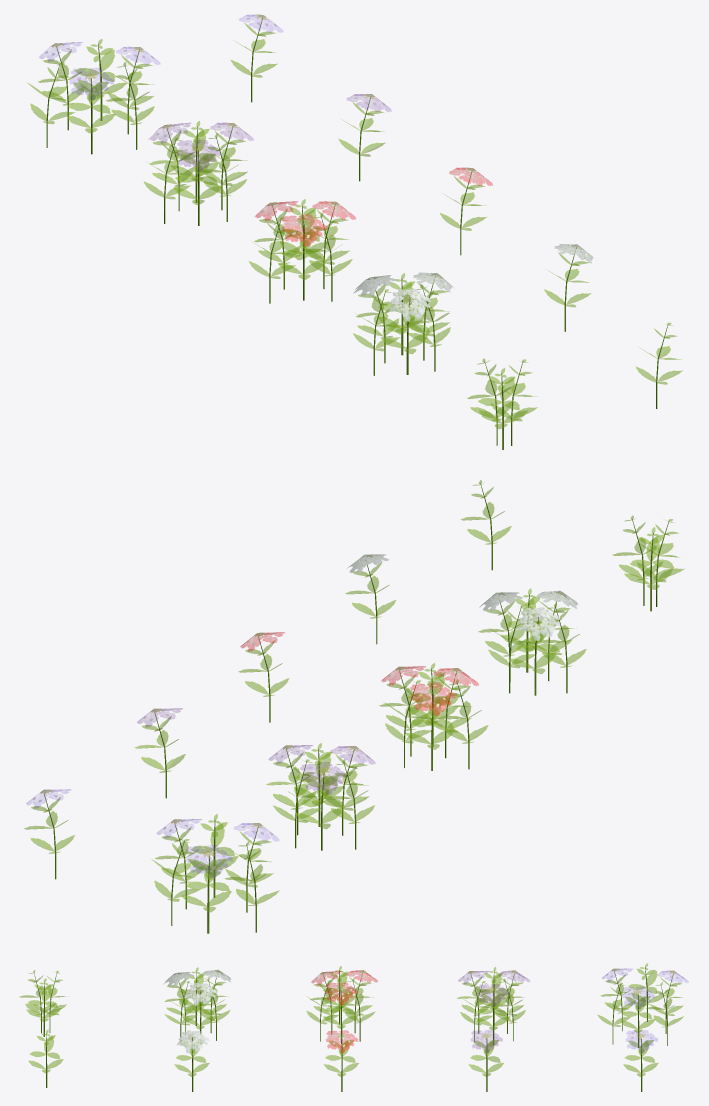
Rendered from Verbena_Flower_Low_Poly.glb.
3 renders of one model, top to bottom at view 1: azimuth 30°, elevation 25°; view 2: azimuth 150°, elevation 25°; view 3: azimuth 270°, elevation 25°, orthographic. The views are drawn at different scales.
Visible parts, largest first — view 1: unnamed (×6); view 2: unnamed (×6); view 3: unnamed (×6).
Part boxes in pixels (x1,y1,x2,y2): unnamed (×6): (27,14,682,449); unnamed (×6): (24,480,684,933); unnamed (×6): (19,963,688,1091).
Bounding box in the file's own units: 2.89 × 0.9035 × 9.12.
Materials: 6 (5 with a texture image).
